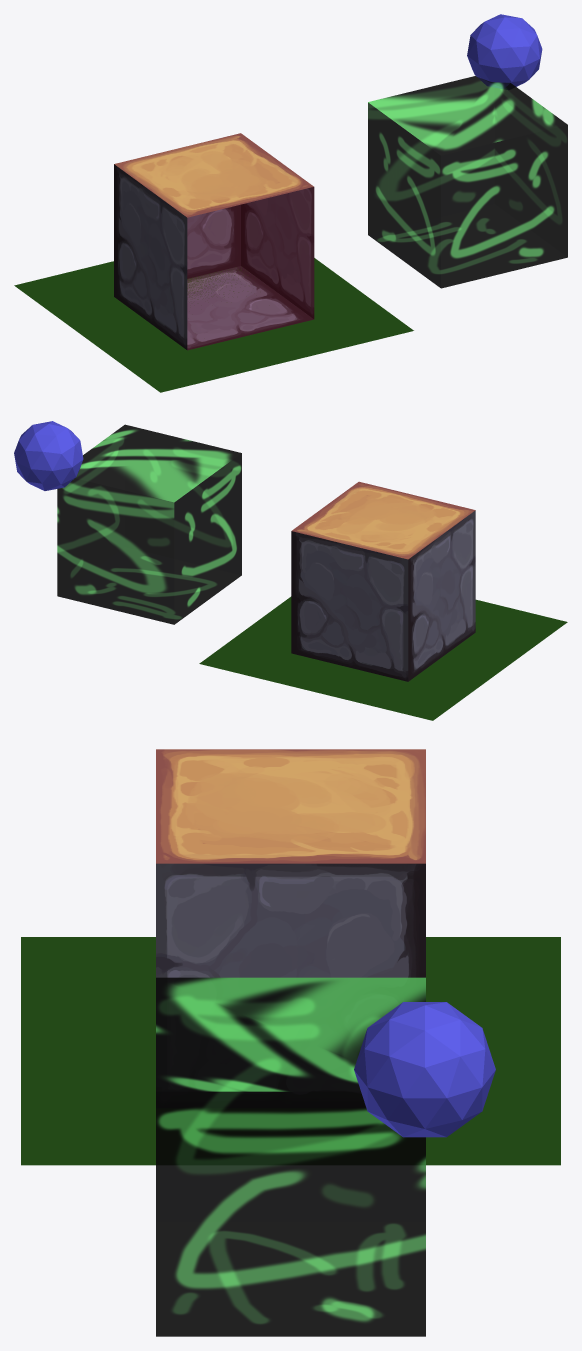
File: multiple parts and mats.fbx
The picture shows the model from 3 angles, top to bottom: view 1: azimuth 30°, elevation 25°; view 2: azimuth 150°, elevation 25°; view 3: azimuth 270°, elevation 25°; orthographic projection. The views are drawn at different scales.
Visible parts, largest first — view 1: IceCube, Cube, Plane; view 2: IceCube, Cube, Plane; view 3: IceCube, Cube, Plane.
Part boxes in pixels (box(x1,y1,x2,y2)): IceCube: box(368, 14, 567, 288); Cube: box(114, 133, 314, 350); Plane: box(14, 258, 413, 392); IceCube: box(14, 421, 241, 624); Cube: box(291, 481, 475, 681); Plane: box(199, 596, 567, 720); IceCube: box(156, 977, 495, 1336); Cube: box(156, 749, 425, 977); Plane: box(21, 937, 560, 1165).
Size of the model in its own units: 2 by 3.83 by 1.39.
